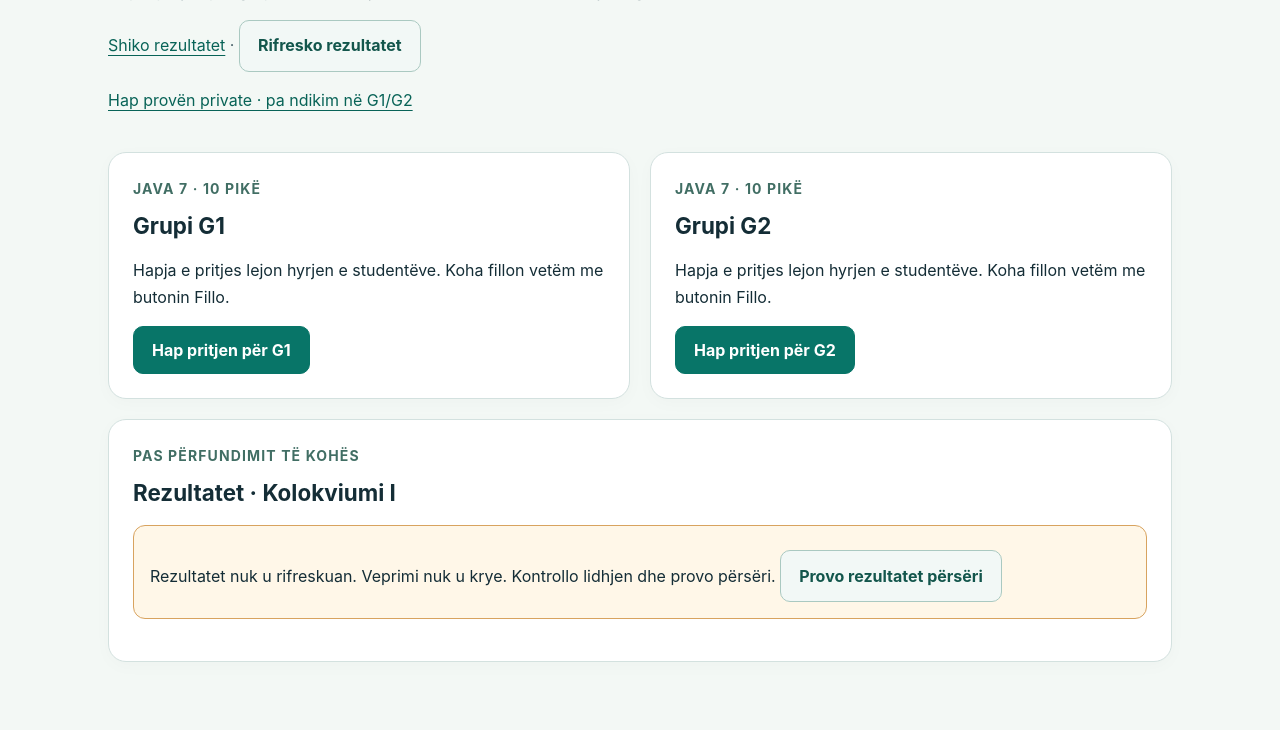
it: shows a result loading failure honestly and recovers on explicit retry
This screenshot has width=1280, height=730.
(page scrolled)
Click the button "Provo rezultatet përsëri" at (891, 576), box [780,550,1002,602]
(page scrolled)
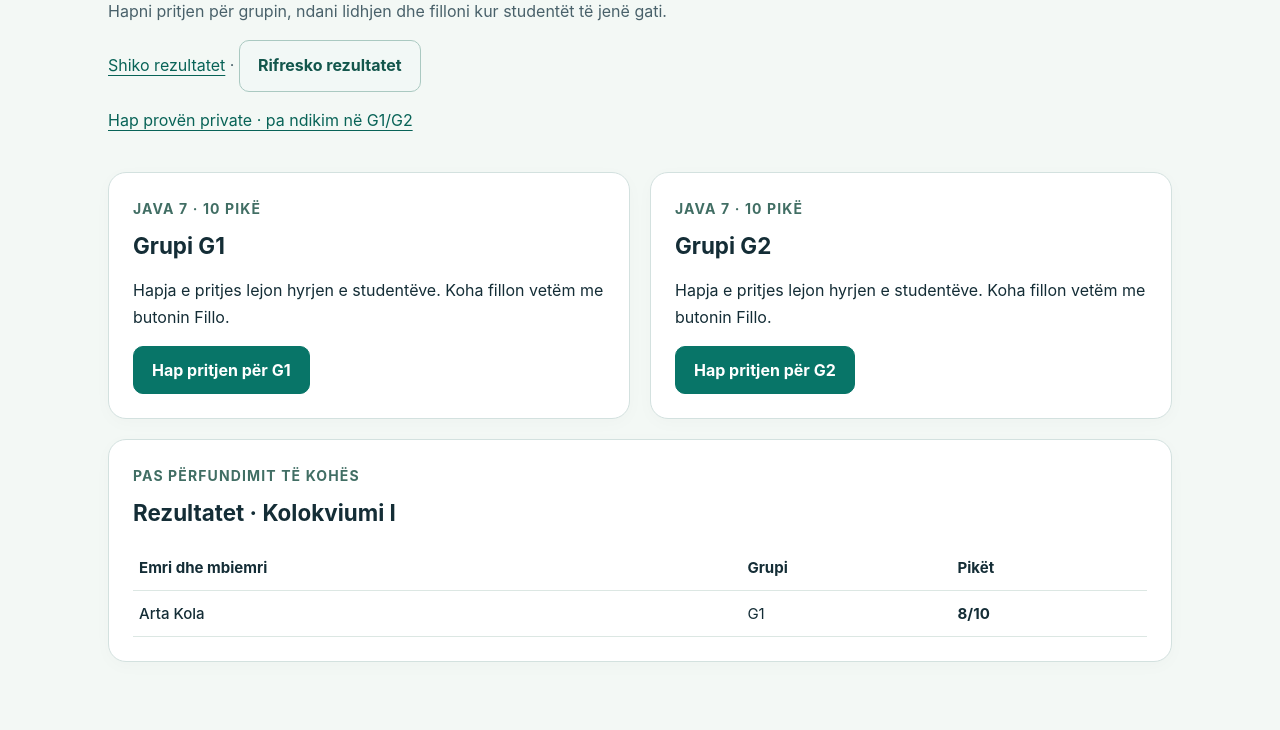
Check: the text "8/10" is shown, box [958,604,990,623]
Check: the message is gone
